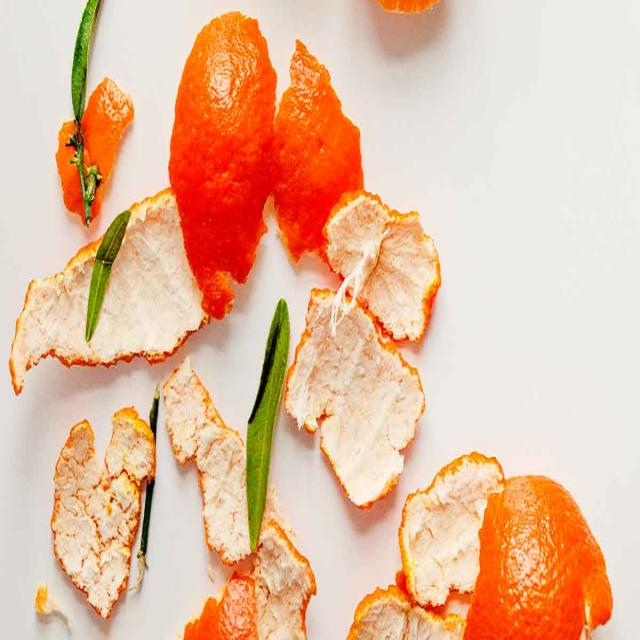Cascara de naranja: (10, 10, 277, 392), (164, 357, 316, 640), (286, 281, 425, 519), (462, 477, 614, 640), (52, 405, 157, 624), (267, 36, 364, 264), (320, 189, 441, 343), (399, 453, 507, 616), (55, 77, 135, 221)
